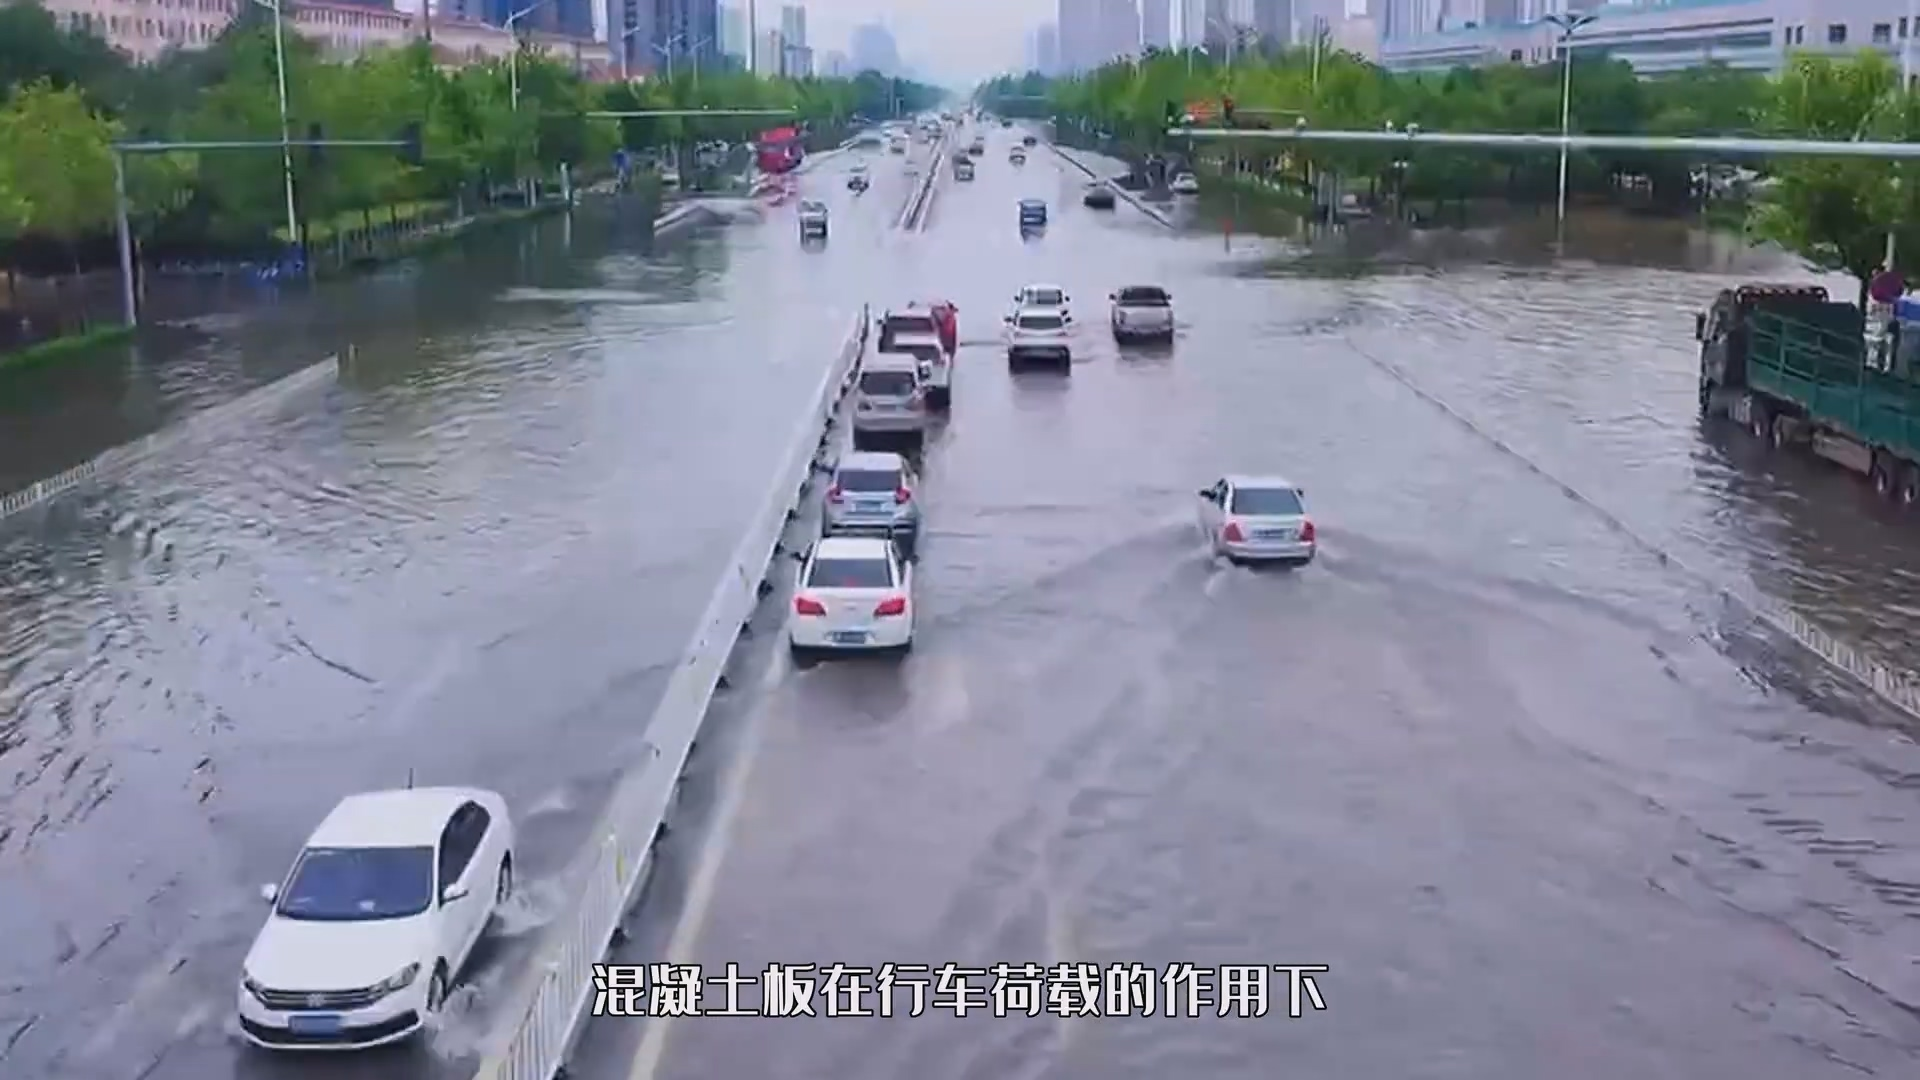puddle: (1, 248, 1920, 1080)
